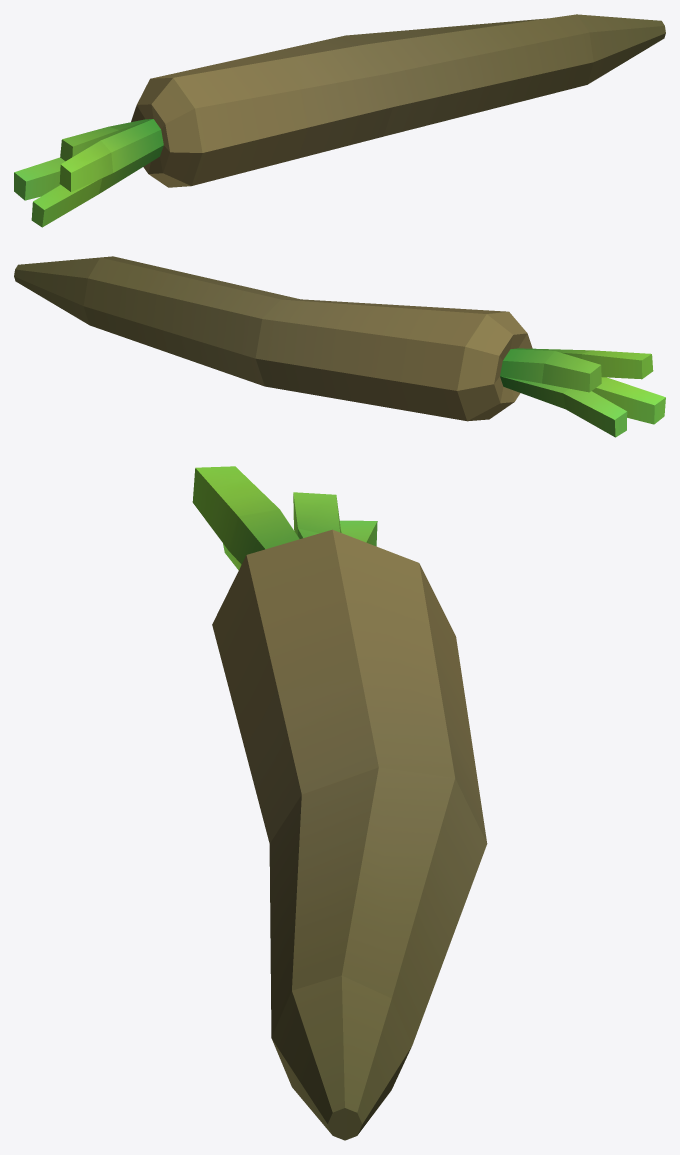
The model's file is SM_Carrot.fbx.
3 renders of one model, top to bottom at view 1: azimuth 30°, elevation 25°; view 2: azimuth 150°, elevation 25°; view 3: azimuth 270°, elevation 25°, orthographic. The views are drawn at different scales.
Parts seen in each view (by area): view 1: carrot; view 2: carrot; view 3: carrot.
Part boxes in pixels (<box>): carrot: <box>14,14,665,227</box>; carrot: <box>14,256,665,437</box>; carrot: <box>192,466,487,1140</box>.
Bounding box in the file's own units: 36.41 × 6.24 × 7.53.
